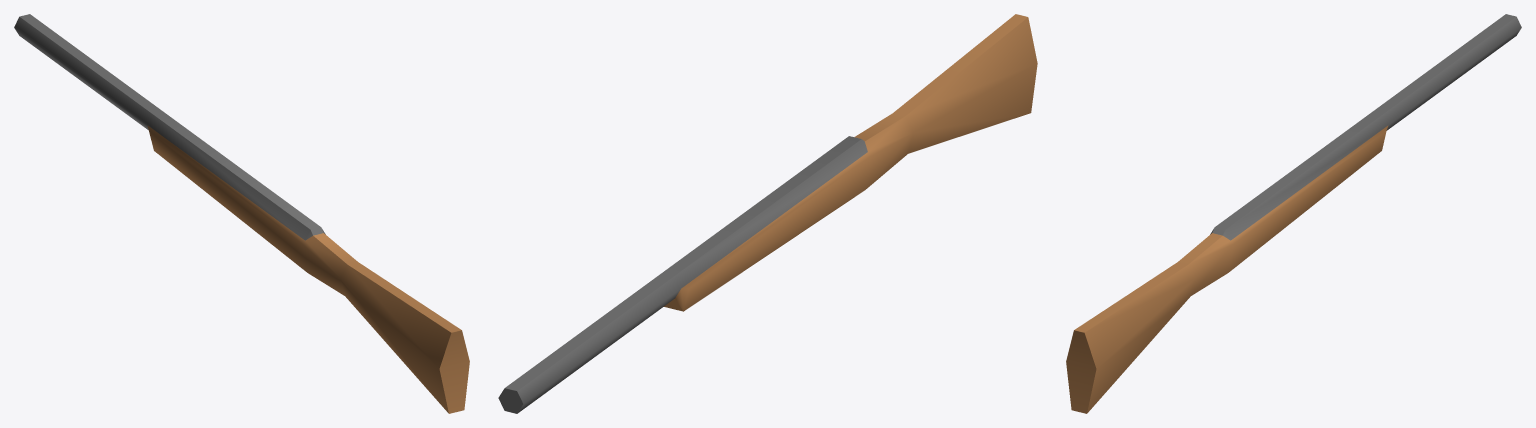
The model's file is rifle.fbx.
3 views of the same model, side by side, from view 1: azimuth 30°, elevation 25°; view 2: azimuth 150°, elevation 25°; view 3: azimuth 330°, elevation 25° (orthographic). The views are drawn at different scales.
Visible parts, largest first — view 1: RifleMesh; view 2: RifleMesh; view 3: RifleMesh.
Boxes of the visible parts, bbox=[...] form: RifleMesh: bbox=[14, 14, 469, 413]; RifleMesh: bbox=[498, 14, 1037, 413]; RifleMesh: bbox=[1066, 14, 1521, 413].
Bounding box in the file's own units: 0.0573 × 0.145 × 1.41.
